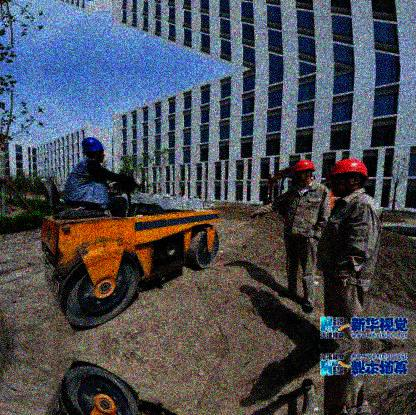helmet: (325, 159, 368, 197), (81, 137, 108, 164), (291, 157, 316, 185)
